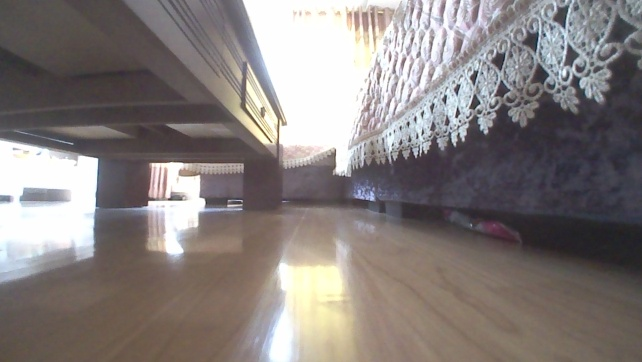sofa1: (170, 0, 641, 268)
tea_table1: (0, 0, 288, 210)
